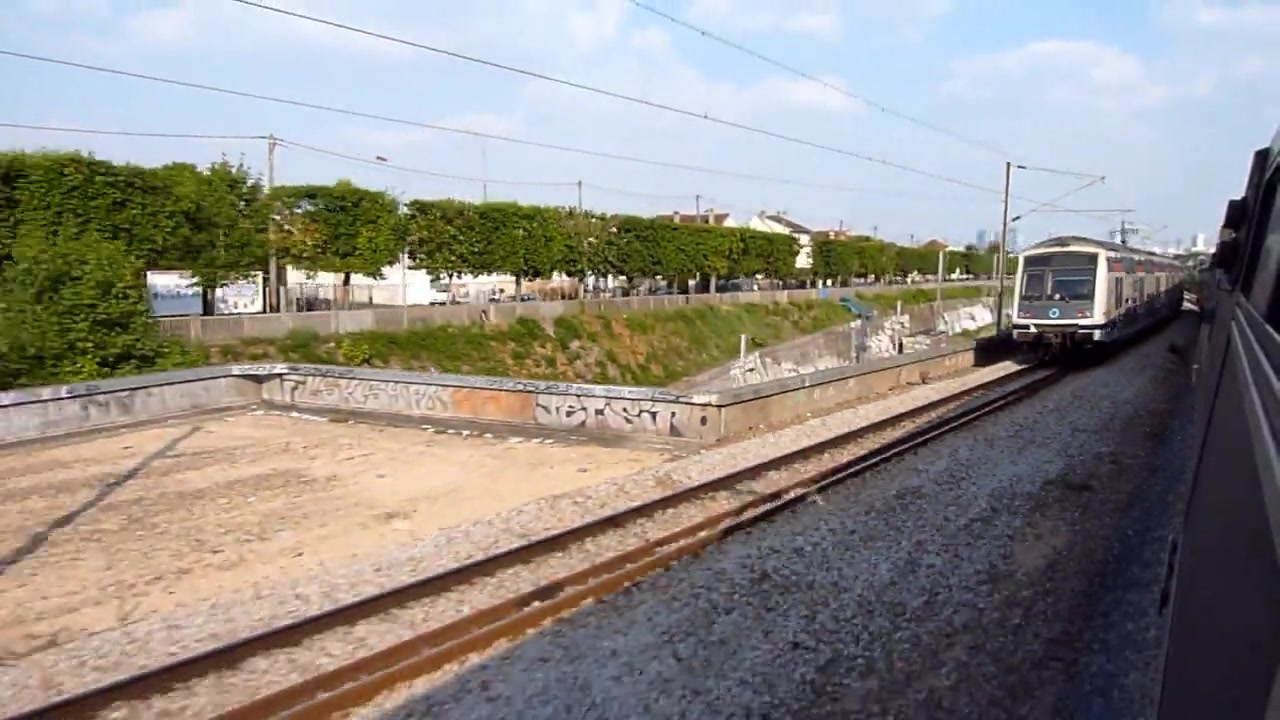train: (1006, 233, 1192, 355)
